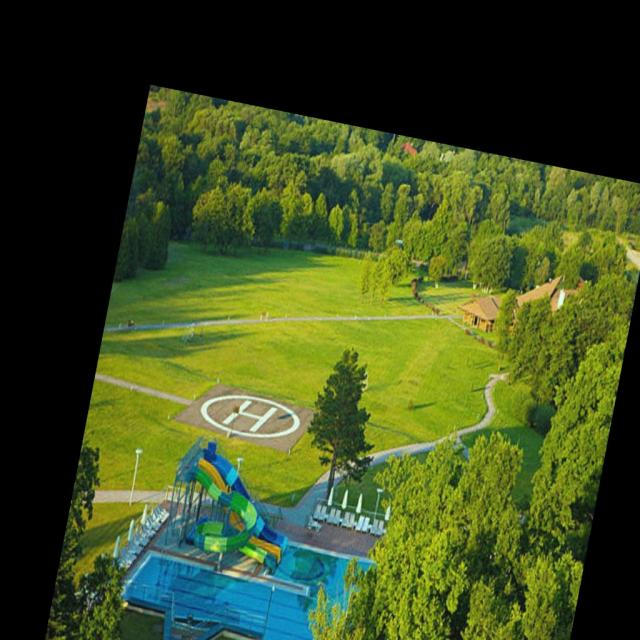helipad: (198, 390, 302, 438)
